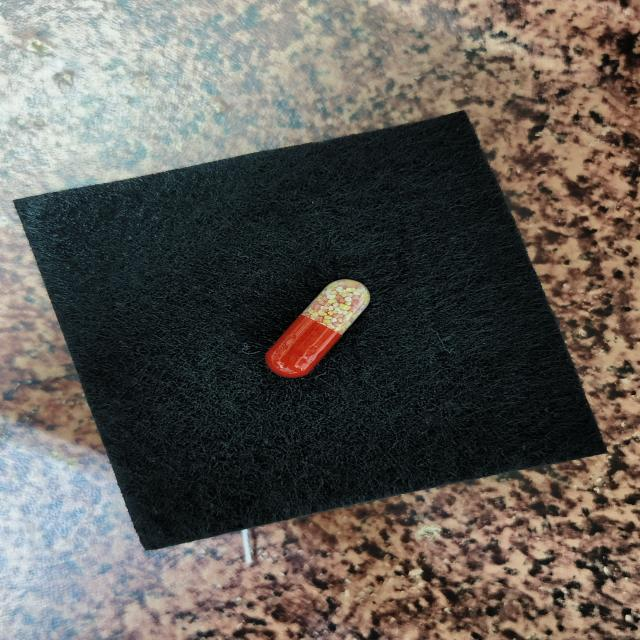Intact Capsule: (266, 279, 370, 378)
